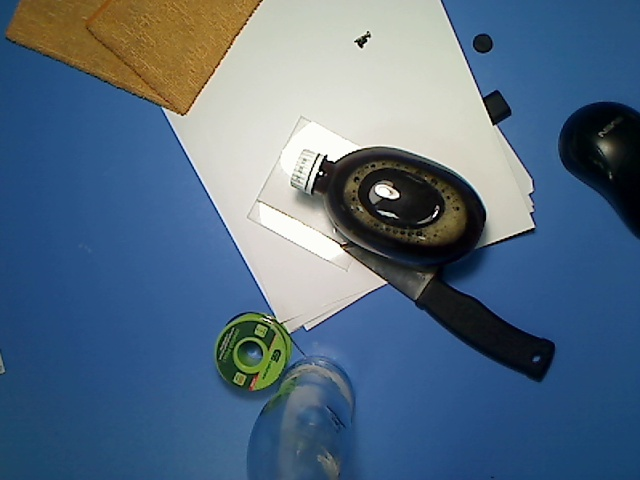plast_bottle: (286, 141, 488, 274)
